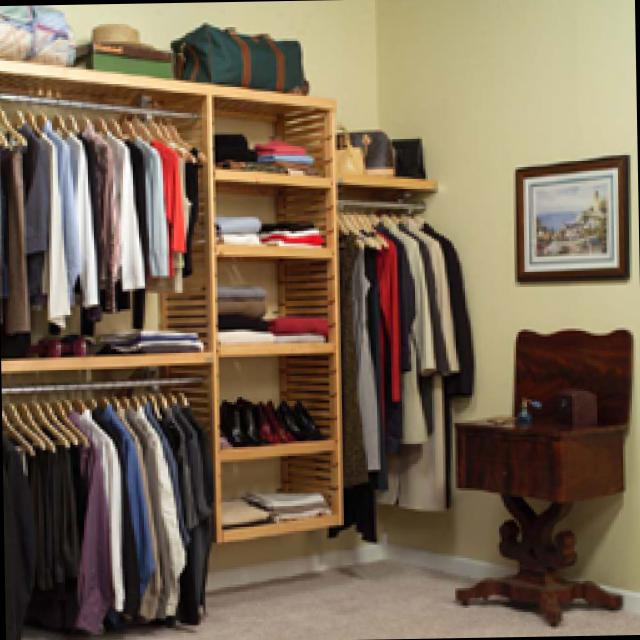boots: (224, 394, 265, 441)
closet crop: (0, 53, 449, 630)
coats: (376, 216, 476, 511)
dress: (331, 227, 404, 539)
floor -X: (8, 561, 640, 640)
furniture crop: (455, 325, 635, 623)
hangers: (4, 108, 207, 157), (6, 394, 92, 452)
picture crop: (517, 152, 632, 277)
purse: (392, 134, 430, 171)
purse occluded: (342, 127, 397, 171)
shirts: (2, 118, 203, 333), (73, 395, 211, 624)
shoes occluded: (282, 398, 324, 435), (259, 396, 292, 441)
suitcase occluded: (175, 19, 311, 93)
sweaters: (219, 281, 278, 342)
trousers occluded: (15, 435, 88, 623)
wall clock: (377, 0, 640, 610)
